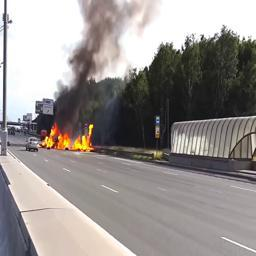fire: (41, 123, 95, 152)
